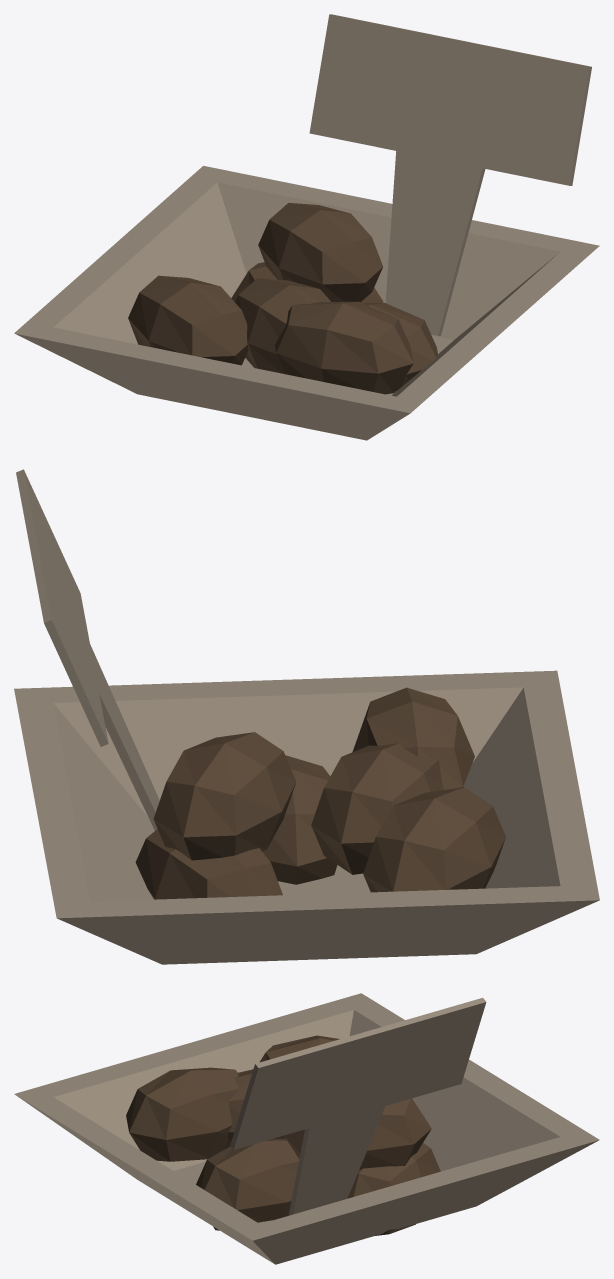
Rendered from brownSeeds-0,0.glb.
3 views of the same model, one above another, from view 1: azimuth 30°, elevation 25°; view 2: azimuth 150°, elevation 25°; view 3: azimuth 270°, elevation 25° (orthographic). The views are drawn at different scales.
Visible parts, largest first — view 1: Cubo.164; view 2: Cubo.164; view 3: Cubo.164.
Part boxes in pixels (x1,y1,x2,y2): Cubo.164: (14, 14, 599, 440); Cubo.164: (14, 469, 599, 964); Cubo.164: (14, 993, 599, 1264).
Size of the model in its own units: 0.5594 by 0.2815 by 0.5594.
